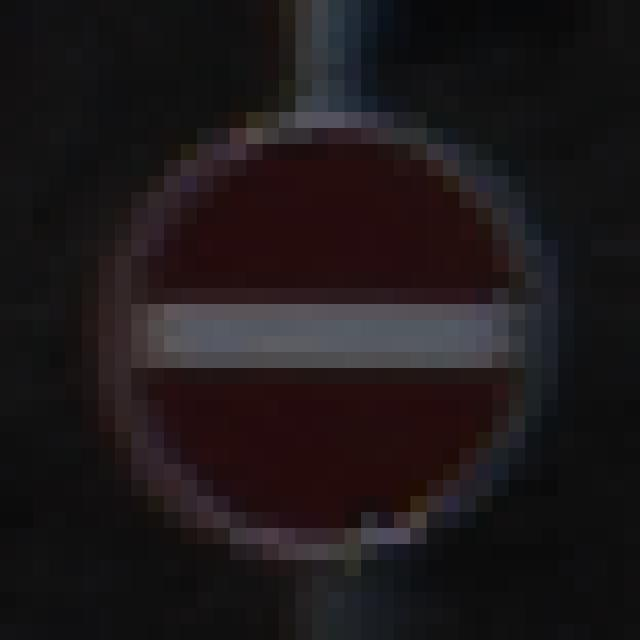No Entry: (99, 81, 559, 561)
